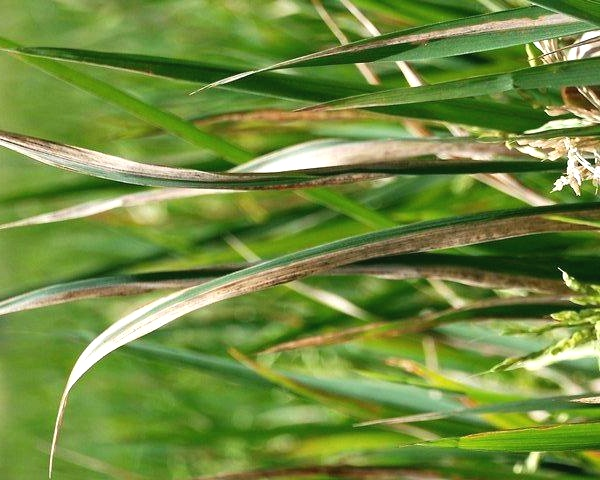Leaf_Blast: (160, 211, 548, 326), (5, 130, 234, 208), (314, 11, 578, 57)
